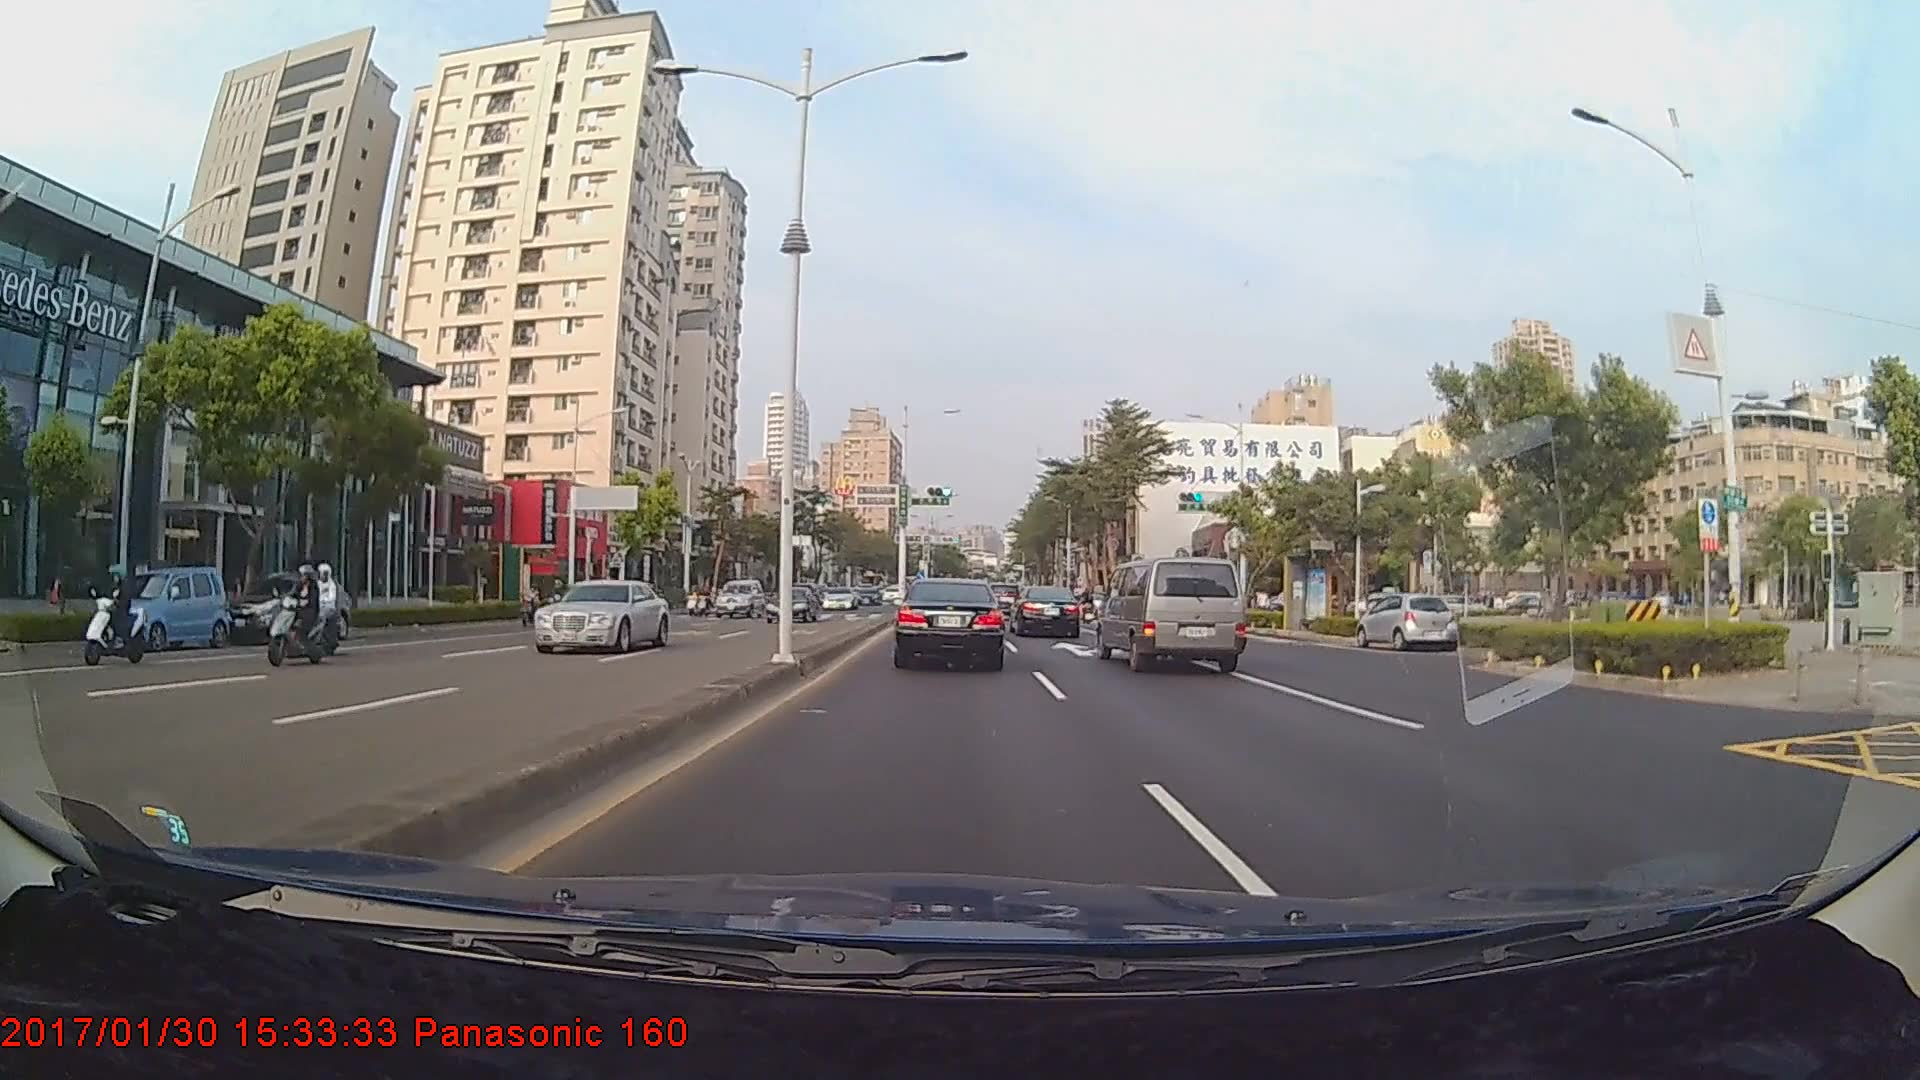rider: (75, 564, 156, 666), (262, 563, 329, 668), (289, 568, 348, 655)
vehicle: (1097, 552, 1247, 674), (102, 565, 230, 653), (527, 579, 666, 655), (896, 577, 1006, 668), (224, 570, 345, 649), (1356, 594, 1456, 652), (1008, 586, 1080, 640), (711, 577, 762, 617), (768, 589, 821, 626), (820, 587, 858, 611)
